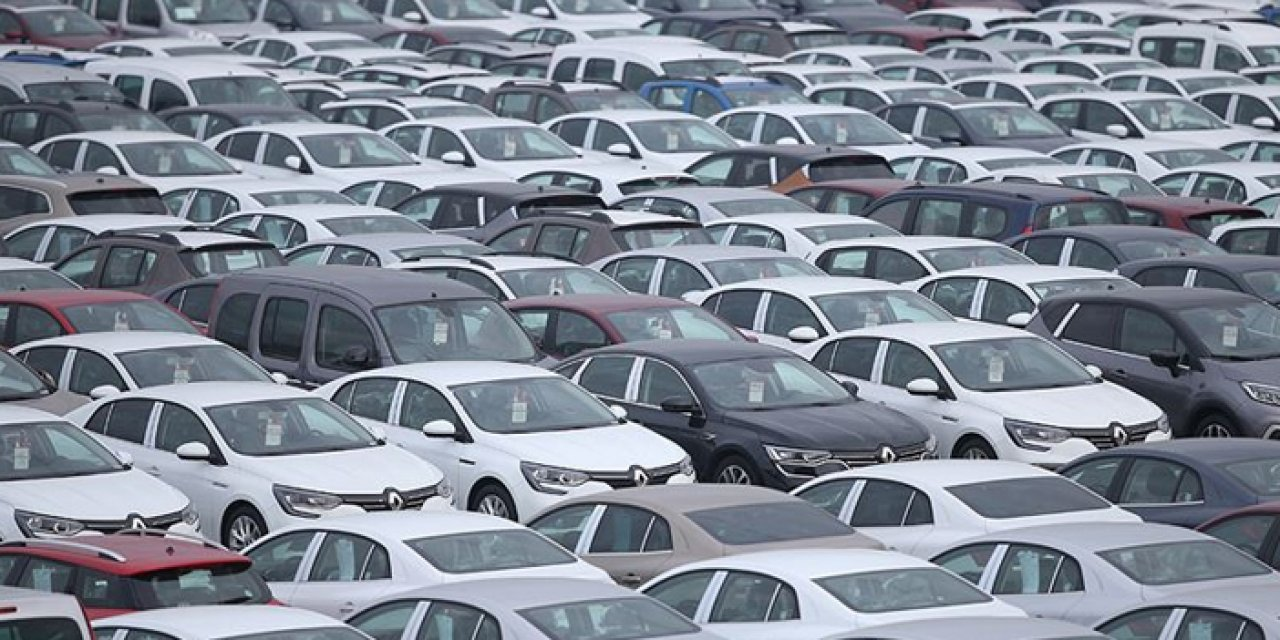Car: (66, 382, 456, 550), (308, 361, 695, 521), (548, 340, 933, 490), (801, 320, 1171, 468), (209, 264, 559, 390), (240, 510, 621, 618), (1026, 287, 1280, 440), (525, 484, 892, 587), (928, 523, 1280, 623), (639, 549, 1025, 640), (791, 460, 1140, 557), (0, 404, 202, 542), (0, 532, 278, 620), (346, 577, 723, 640), (682, 277, 954, 353), (1059, 438, 1280, 527), (6, 331, 287, 399), (499, 294, 746, 358), (859, 183, 1129, 241), (900, 265, 1138, 330), (203, 123, 433, 190), (55, 229, 288, 295), (29, 131, 262, 192), (1037, 91, 1267, 148), (706, 104, 931, 162), (591, 245, 828, 299), (378, 117, 579, 180), (477, 210, 711, 264), (539, 109, 741, 170), (393, 182, 604, 240), (0, 289, 199, 349), (546, 35, 753, 92), (383, 255, 629, 302), (86, 58, 296, 113), (200, 205, 435, 253), (873, 98, 1078, 153), (809, 236, 1034, 284), (1094, 583, 1280, 640), (1002, 225, 1222, 271), (0, 174, 170, 233), (2, 216, 204, 265), (683, 146, 893, 192), (61, 0, 275, 45), (92, 606, 373, 640), (162, 179, 362, 225), (705, 213, 905, 258), (1118, 254, 1280, 308), (0, 96, 169, 146), (334, 164, 513, 208), (519, 159, 699, 202), (611, 186, 815, 223), (282, 233, 499, 267), (1132, 23, 1280, 72), (639, 76, 811, 118), (1047, 139, 1237, 177), (483, 81, 653, 123), (968, 164, 1162, 200), (1119, 196, 1270, 240), (889, 147, 1067, 184), (826, 617, 1112, 640), (355, 0, 535, 36), (0, 61, 139, 107), (317, 96, 498, 131), (0, 349, 89, 415), (154, 105, 319, 140), (1198, 501, 1280, 571), (251, 0, 391, 40), (0, 0, 114, 49), (1152, 162, 1280, 204), (702, 22, 850, 58), (807, 80, 964, 113), (0, 585, 94, 640), (231, 31, 378, 66), (951, 73, 1102, 107), (1110, 8, 1273, 39), (785, 179, 921, 215), (283, 78, 419, 113), (1097, 68, 1256, 97), (925, 40, 1061, 73), (1187, 85, 1280, 133), (490, 0, 652, 27), (340, 61, 490, 90), (93, 37, 258, 63), (283, 47, 430, 76), (982, 21, 1129, 49), (1018, 54, 1168, 81), (154, 275, 222, 334), (908, 7, 1040, 37), (640, 11, 780, 39), (751, 64, 879, 94), (511, 21, 652, 48), (874, 59, 1013, 86), (426, 41, 554, 70), (783, 45, 924, 71), (417, 75, 538, 105), (850, 24, 979, 52), (376, 26, 511, 52), (790, 6, 908, 35), (0, 43, 117, 68), (0, 257, 80, 292), (1033, 2, 1148, 26), (1209, 219, 1280, 257), (755, 0, 879, 20), (239, 60, 338, 84), (0, 140, 62, 176), (626, 0, 765, 15), (879, 0, 1033, 13), (1216, 133, 1280, 163), (491, 54, 550, 81), (1147, 0, 1280, 11), (1060, 38, 1131, 57), (1242, 190, 1280, 219), (725, 50, 784, 68), (1241, 65, 1280, 86)
